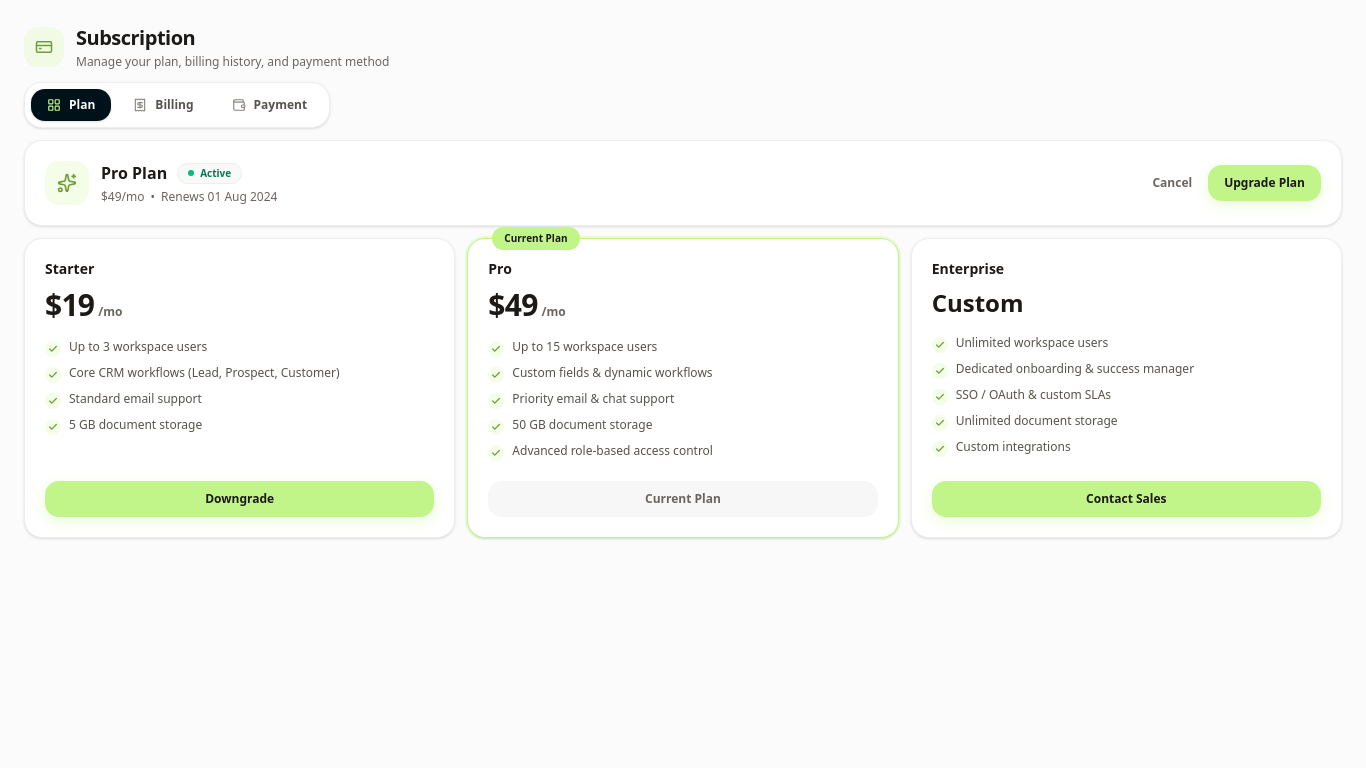
Scenario: SubscriptionPage — Plan tab › cancelling shows the destructive confirmation and updates status on confirm
The image size is (1366, 768).
Click the button with aria-label "Cancel subscription". click: click(1172, 183)
box: [1152,175,1192,191]
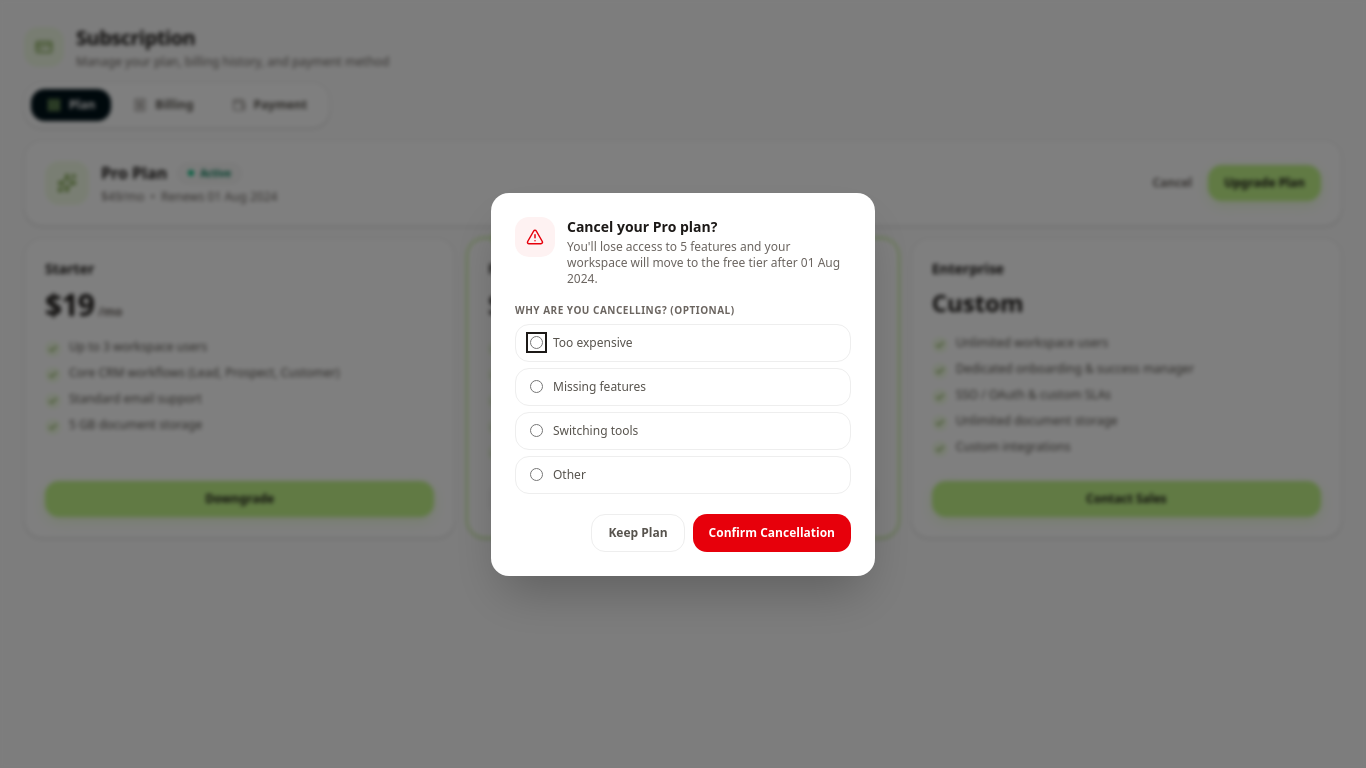
Expected: the dialog "Cancel your Pro plan?" is shown
Click the button with aria-label "Confirm plan cancellation". click: click(772, 532)
box: [693,514,851,552]
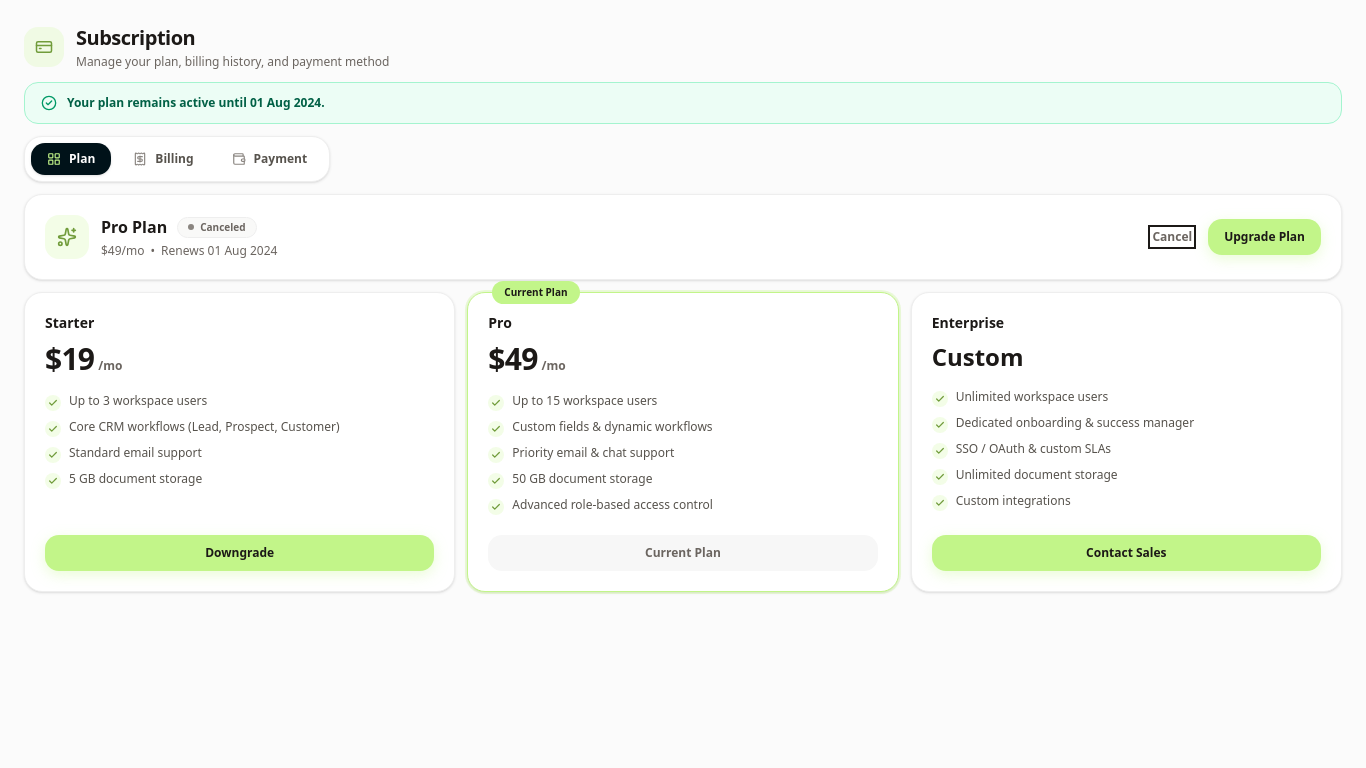
Expected: the dialog is gone
Expected: the text "Canceled" is shown, [177,216,256,238]
